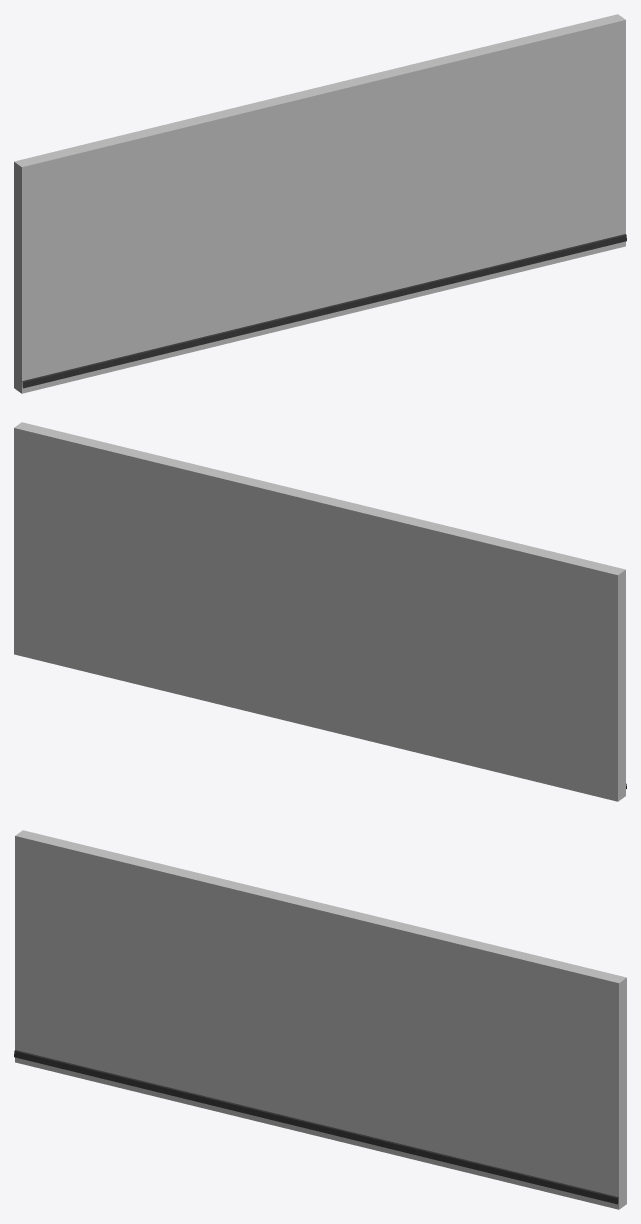
File: BG_GR_BD_Wall_04.fbx
3 views of the same model, one above another, from view 1: azimuth 30°, elevation 25°; view 2: azimuth 150°, elevation 25°; view 3: azimuth 330°, elevation 25° (orthographic).
Visible parts, largest first — view 1: GenRm_wall_004, GenRm_wall_bottom_low.016; view 2: GenRm_wall_004; view 3: GenRm_wall_004, GenRm_wall_bottom_low.016.
Part boxes in pixels (x1=…): GenRm_wall_004: x1=14, y1=14, x2=625, y2=393; GenRm_wall_bottom_low.016: x1=22, y1=234, x2=626, y2=388; GenRm_wall_004: x1=14, y1=422, x2=625, y2=801; GenRm_wall_004: x1=15, y1=830, x2=626, y2=1209; GenRm_wall_bottom_low.016: x1=14, y1=1050, x2=618, y2=1204.
Size of the model in its own units: 17.5 by 0.4469 by 6.27.
